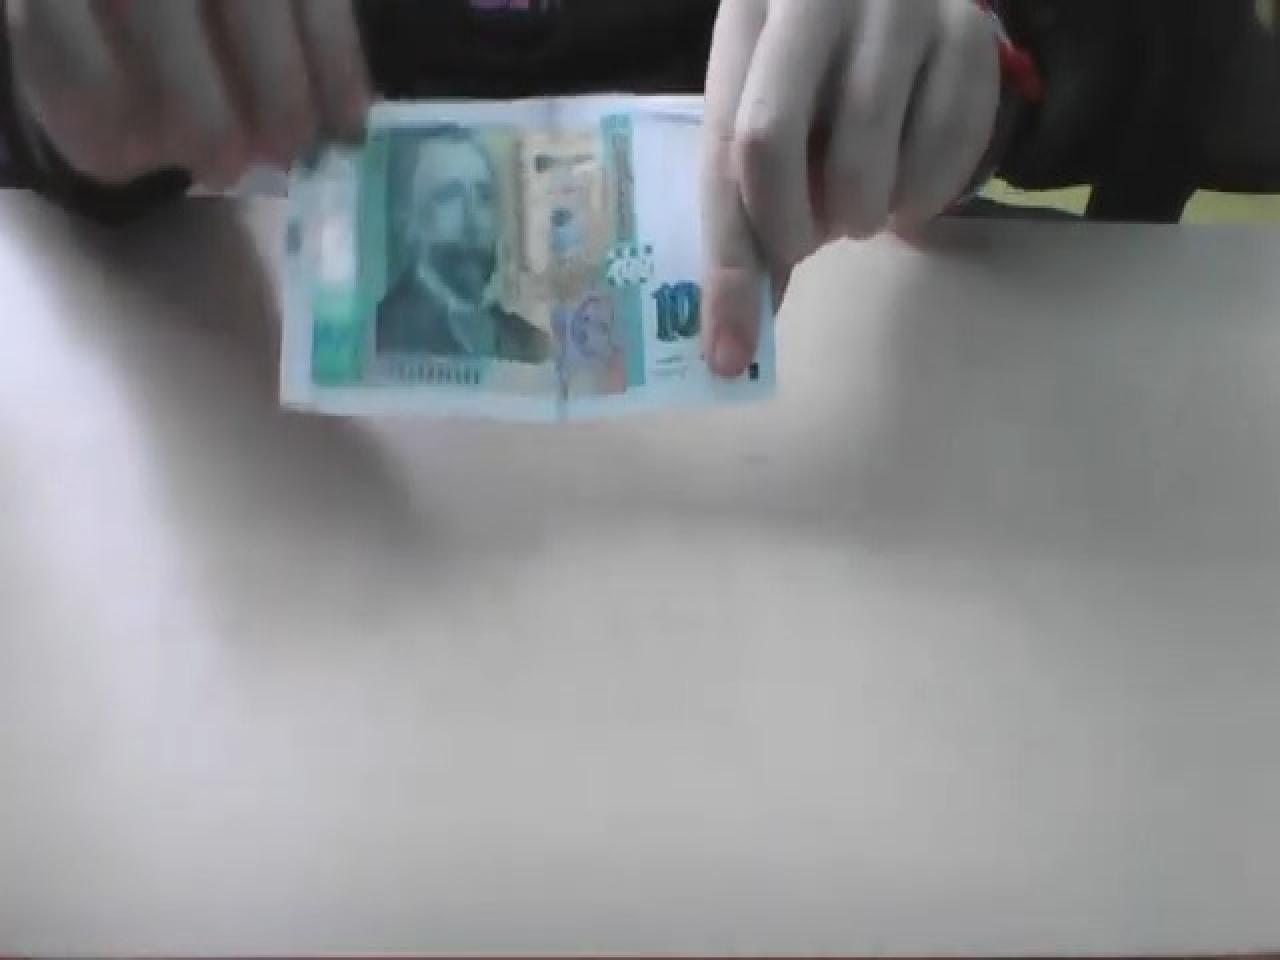100leva: (276, 91, 778, 425)
